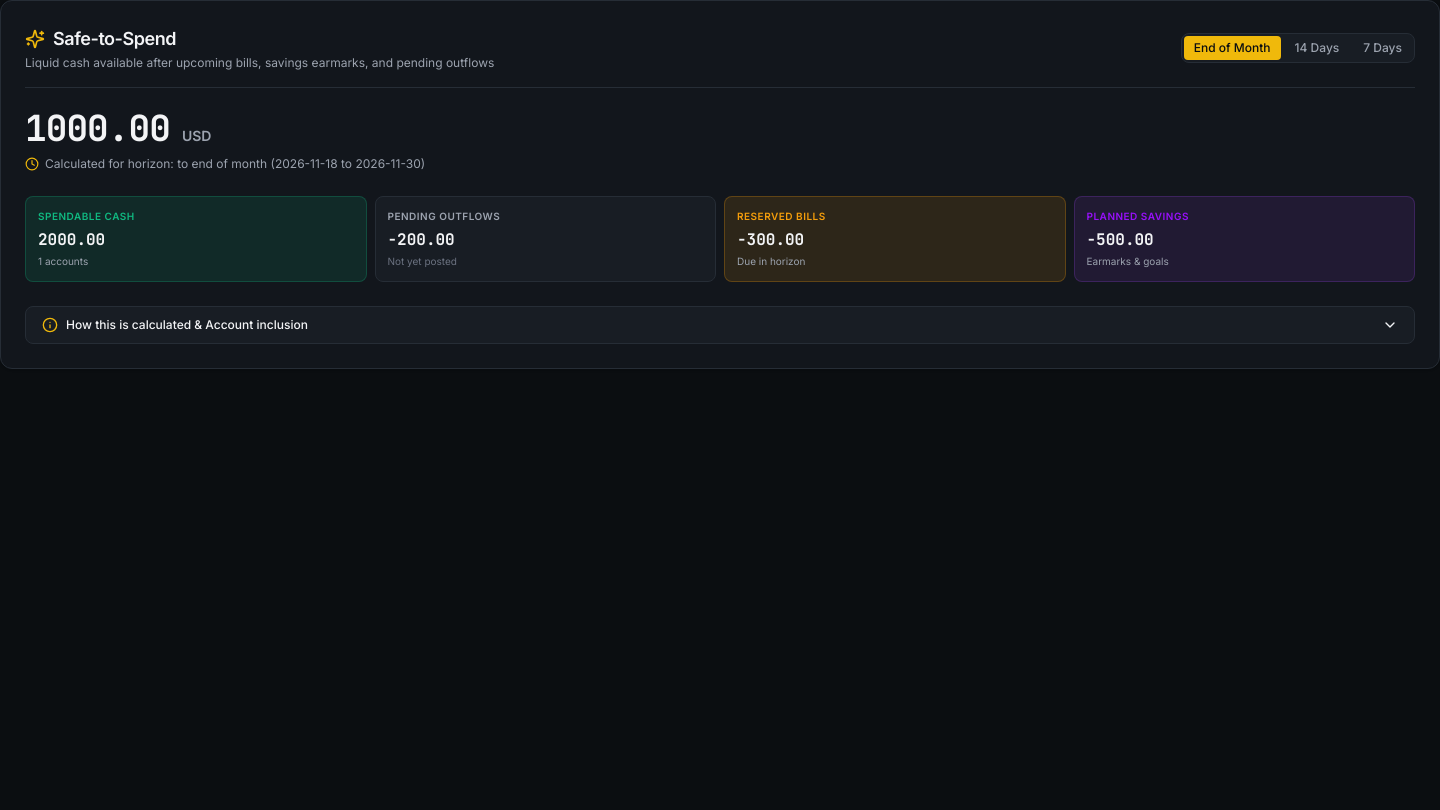
Test case: SafeToSpendCard › toggles accounts drawer when clicking details button
expect the text "Main Checking" is not shown: met
Click the button "How this is calculated & Account inclusion". click: (187, 324)
box: [25,306,1415,344]
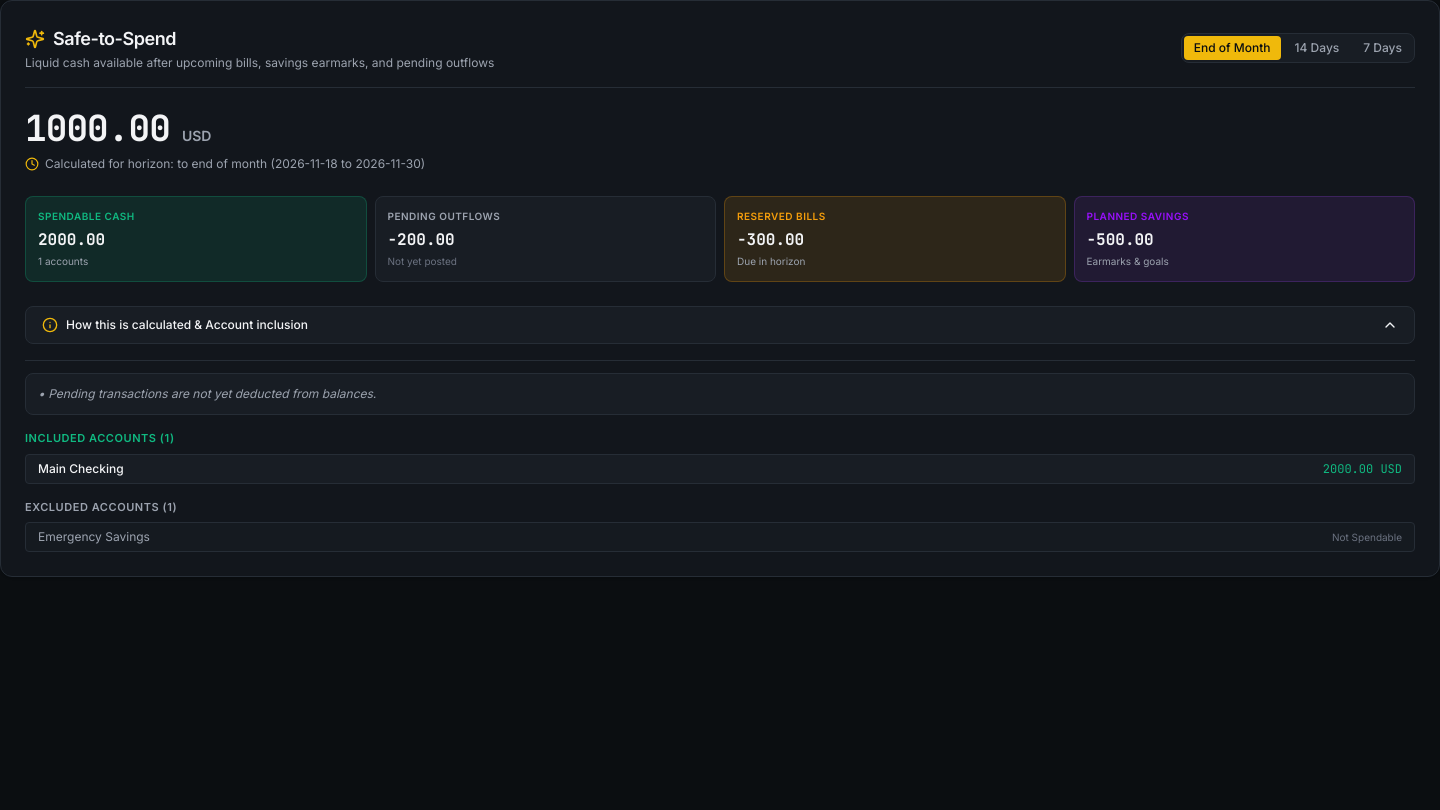
expect the text "Main Checking" is shown: met, box [38,461,124,477]
expect the text "Emergency Savings" is shown: met, box [38,529,150,545]
expect the text "• Pending transactions are not yet deducted from balances." is shown: met, box [38,386,376,401]
